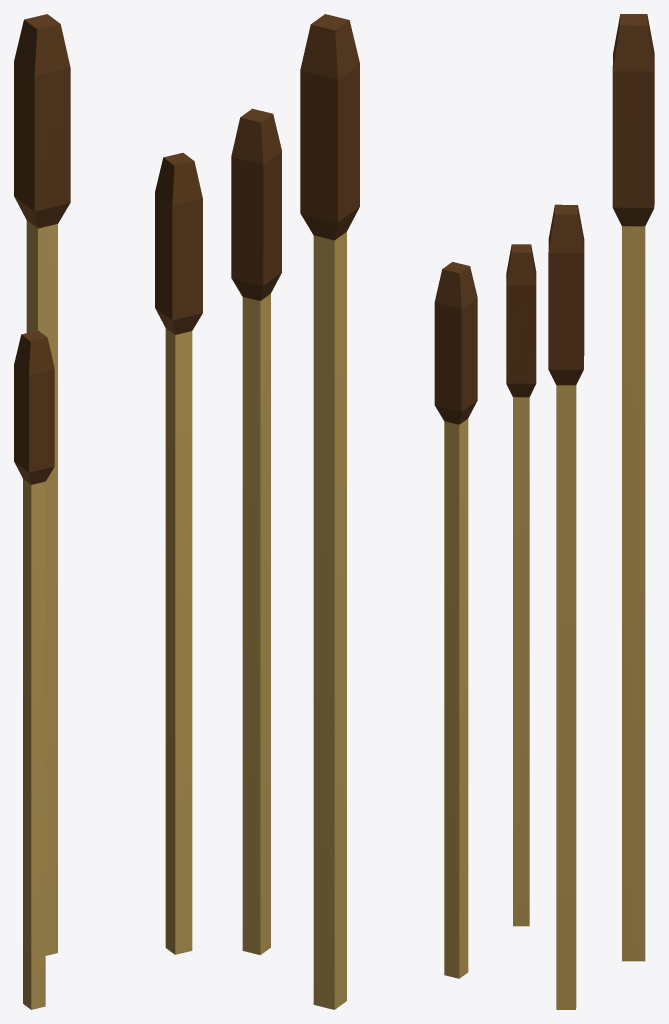
The model's file is reed_cattail.glb.
3 renders of one model, left to right at view 1: azimuth 30°, elevation 25°; view 2: azimuth 150°, elevation 25°; view 3: azimuth 270°, elevation 25°, orthographic. The views are drawn at different scales.
Visible parts, largest first — view 1: Reed Single; view 2: Reed Single; view 3: Reed Single.
Boxes of the visible parts, x1=… form: Reed Single: x1=14, y1=14, x2=202, y2=1009; Reed Single: x1=231, y1=14, x2=477, y2=1009; Reed Single: x1=506, y1=14, x2=654, y2=1009.
Size of the model in its own units: 0.1318 by 0.6 by 0.0862.
Materials: 1 (1 with a texture image).
